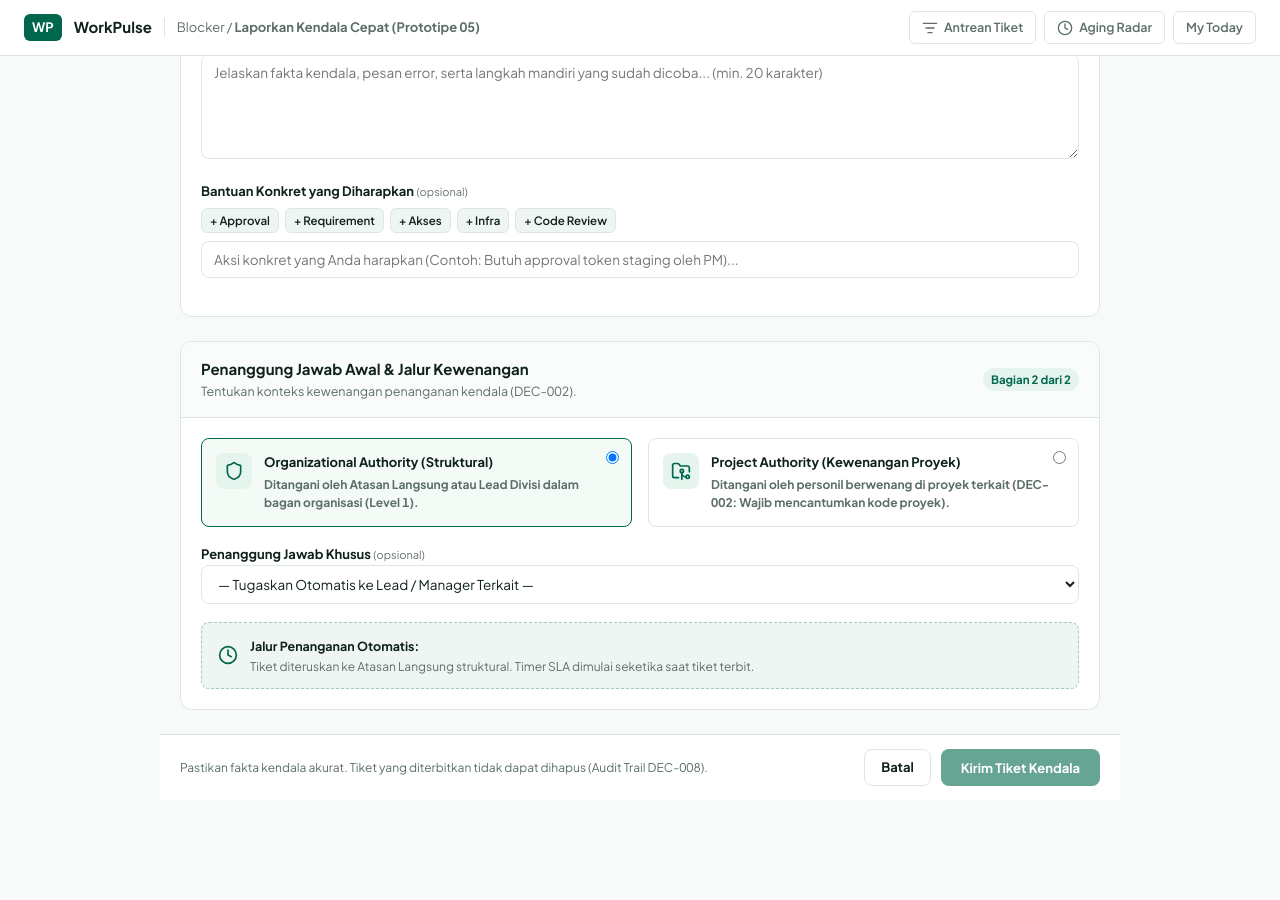
Test: RaiseBlockerView.vue (WP-EP06 / Prototipe 05 - Laporkan Kendala Cepat) › displays project code input when Project Authority is selected (DEC-002)
(page scrolled)
Click the 2nd radio button: (1060, 457) [1053, 451, 1066, 464]
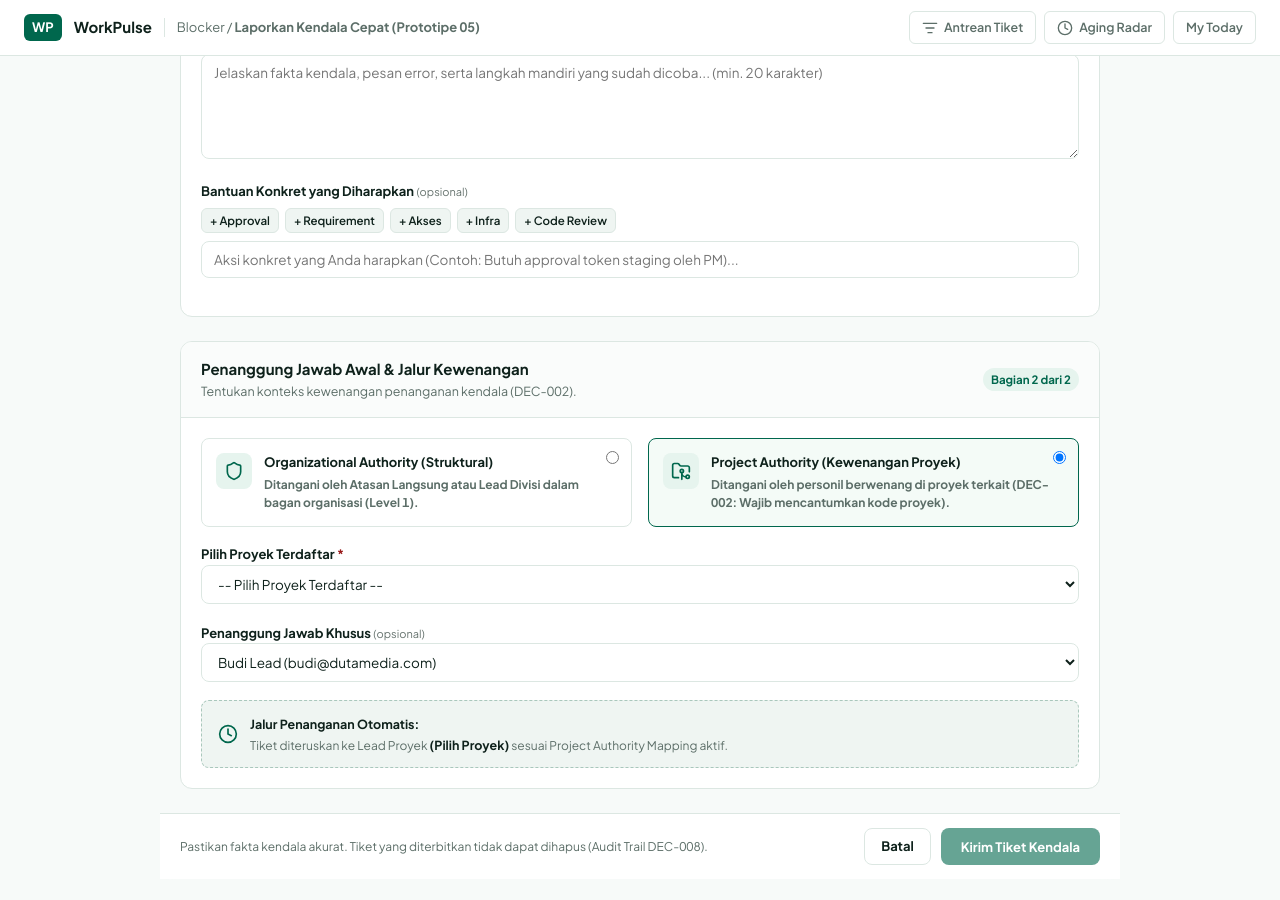
Expected: the dropdown labelled "Pilih Proyek Terdaftar *" is shown, [201, 565, 1079, 604]
